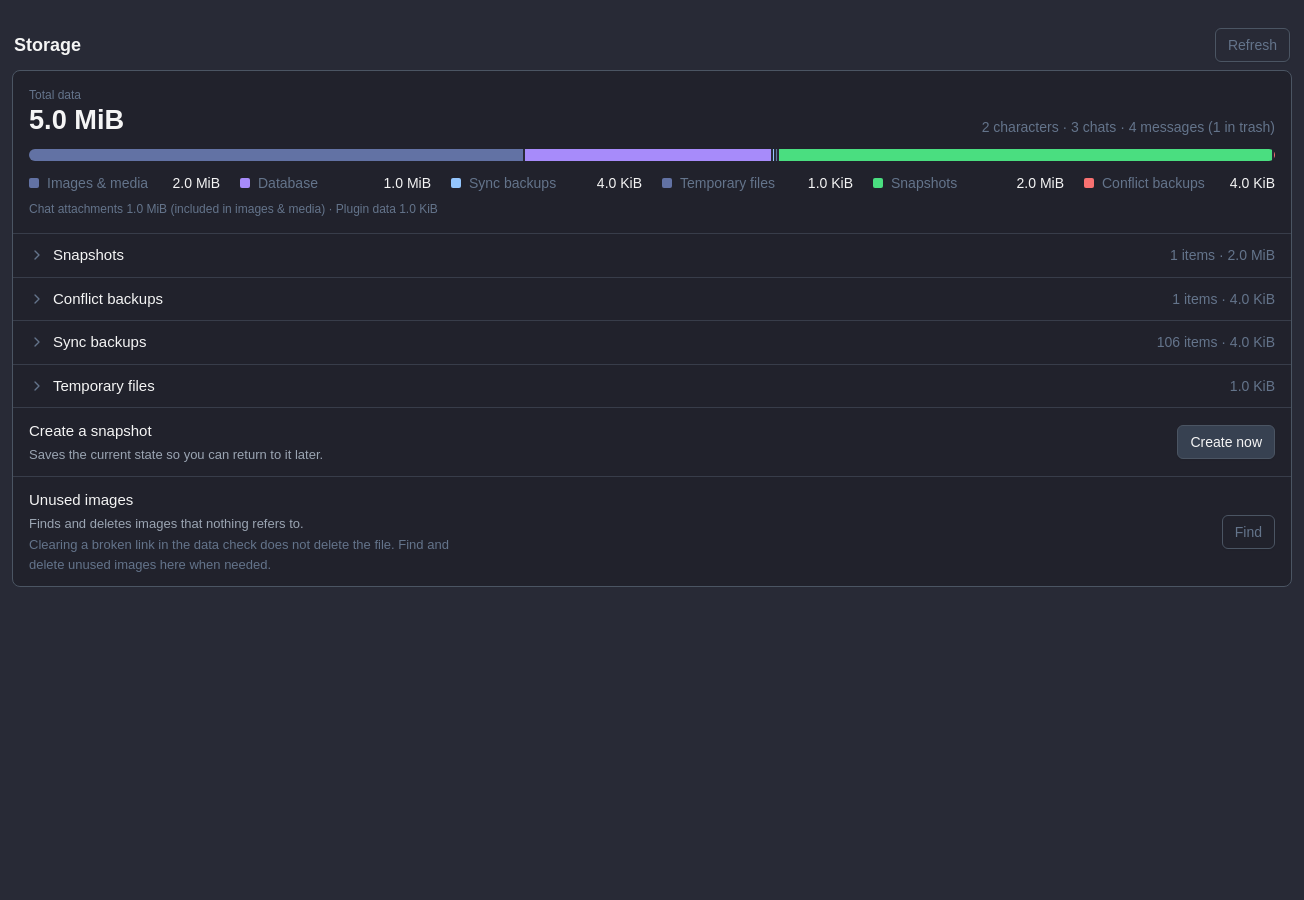
Test: RisuNestStorageDashboard › keeps stale totals visible and offers retry after a post-snapshot reload fails
This screenshot has width=1304, height=900.
What coordinates should you click on to do the following:
click the button "Create now"
I would click on:
 (1226, 442)
Its box is x1=1177 y1=425 x2=1275 y2=459.
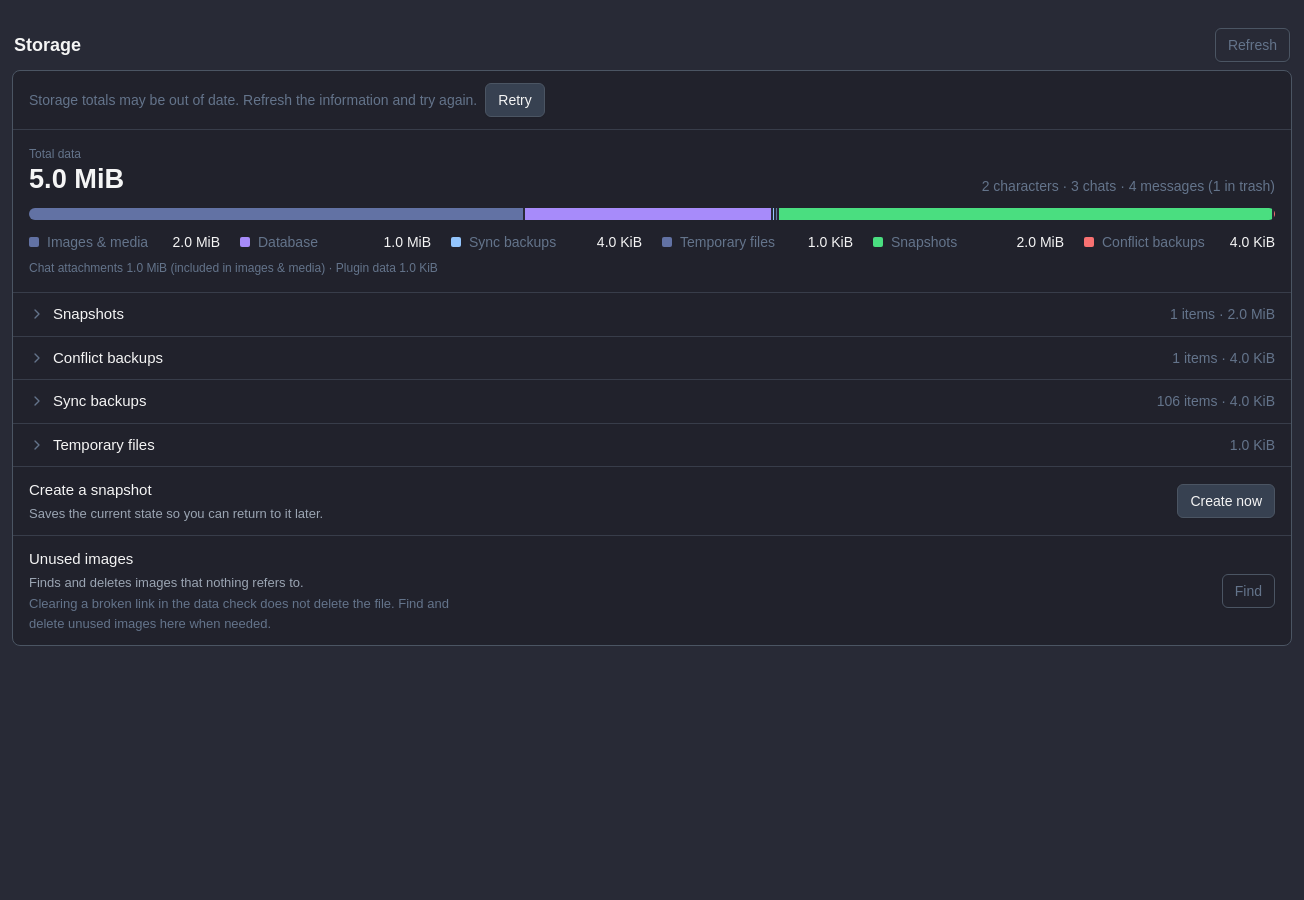
Expected: the text "Total data" is shown, x1=29 y1=147 x2=81 y2=161
Expected: the text "Storage totals may be out of date." is shown, x1=29 y1=92 x2=477 y2=108
Expected: the text "Retry" is shown, x1=485 y1=83 x2=545 y2=117
